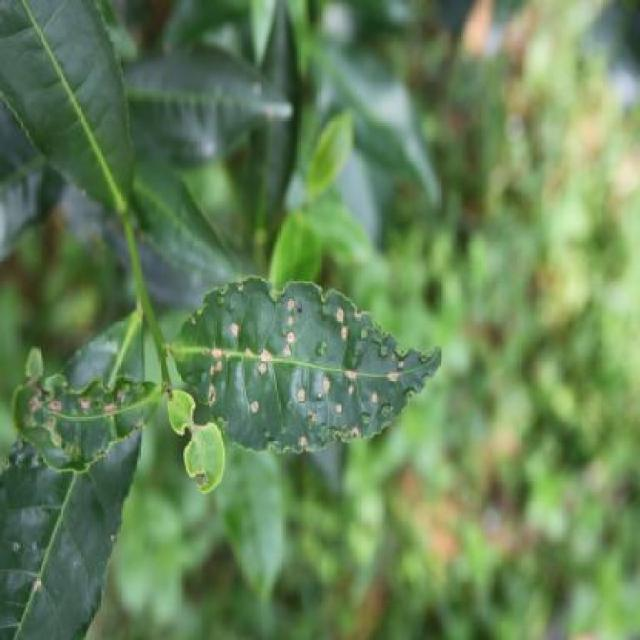Tea Mosquito bug infested leaf: (166, 268, 445, 460), (4, 340, 168, 475)
